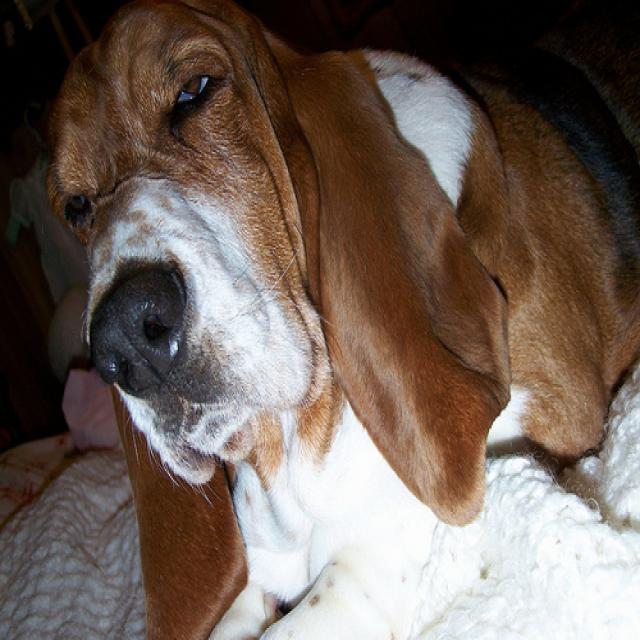dog-basset_hound: (35, 2, 637, 637)
